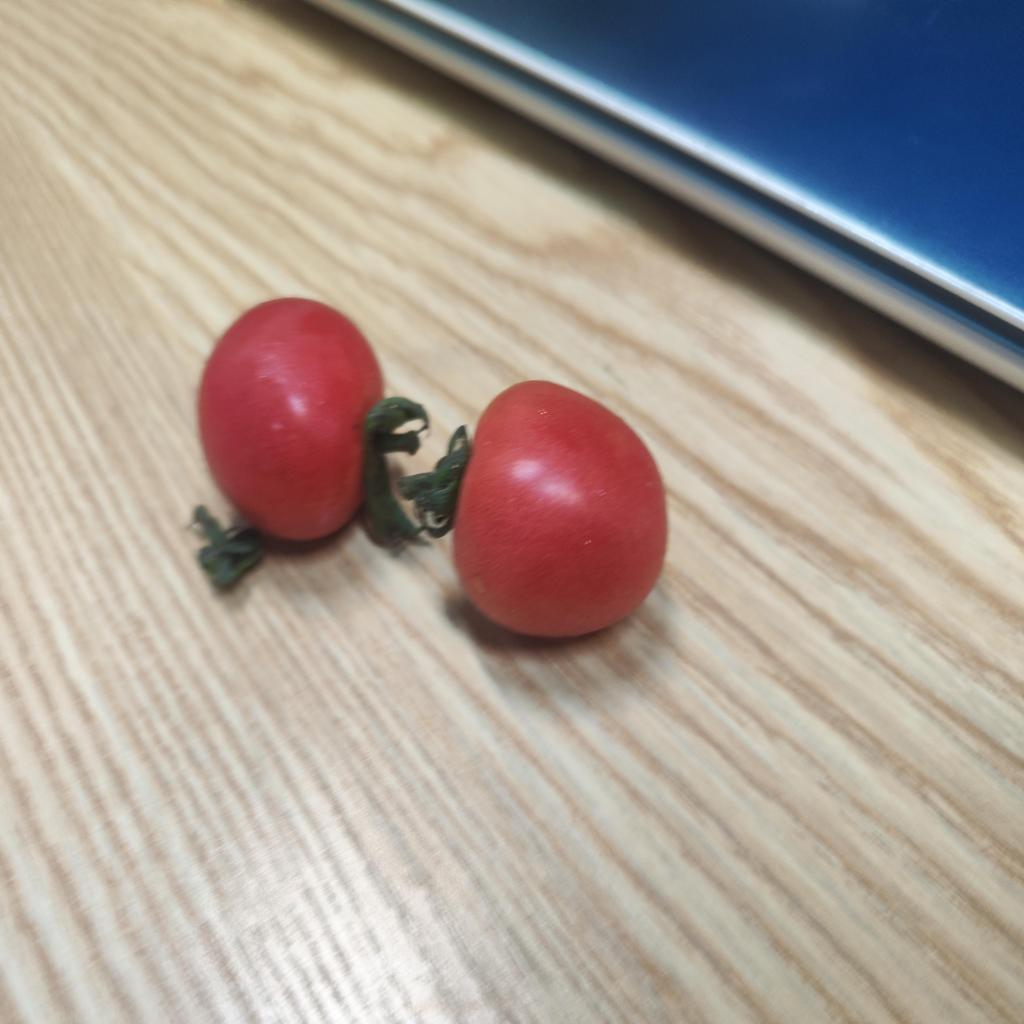tomato: (442, 382, 657, 647), (201, 300, 387, 549)
